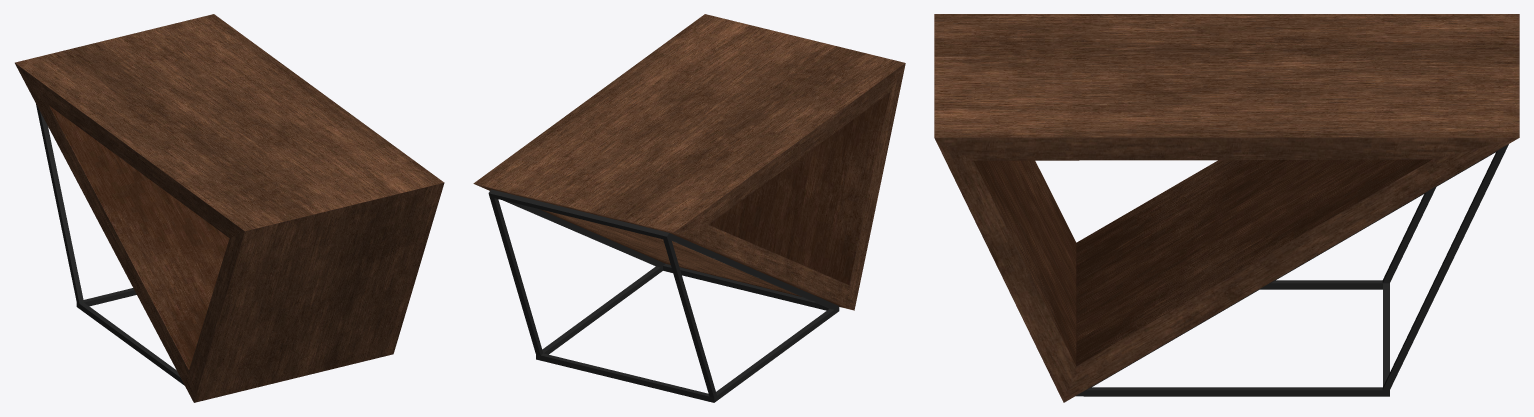
The picture shows the model from 3 angles, left to right: view 1: azimuth 30°, elevation 25°; view 2: azimuth 150°, elevation 25°; view 3: azimuth 270°, elevation 25°; orthographic projection. The views are drawn at different scales.
Parts seen in each view (by area): view 1: Tea_Table.001_Tea_Table; view 2: Tea_Table.001_Tea_Table; view 3: Tea_Table.001_Tea_Table.
Boxes of the visible parts, bbox=[...] form: Tea_Table.001_Tea_Table: bbox=[15, 14, 444, 402]; Tea_Table.001_Tea_Table: bbox=[473, 14, 905, 402]; Tea_Table.001_Tea_Table: bbox=[934, 14, 1519, 402].
Size of the model in its own units: 0.0457 by 0.0458 by 0.0914.
Materials: 1 (1 with a texture image).
